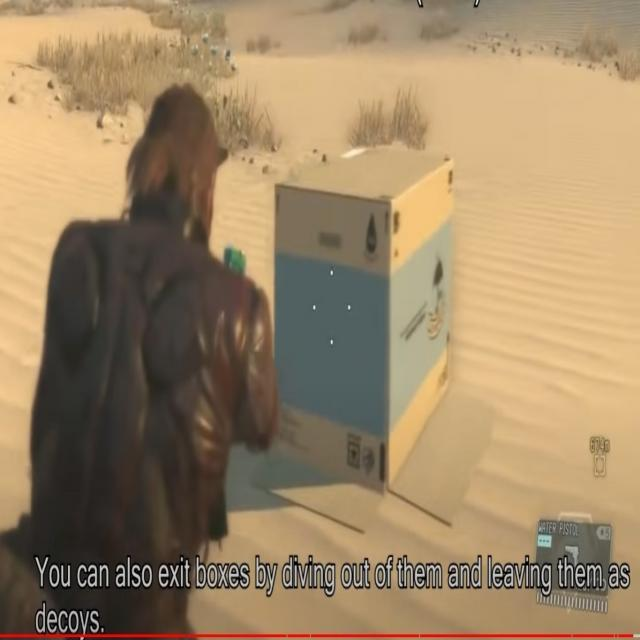snake-in-cardboard-boxes: (276, 142, 456, 496)
